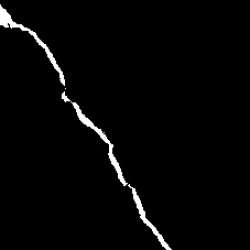crack: (0, 6, 173, 249)
